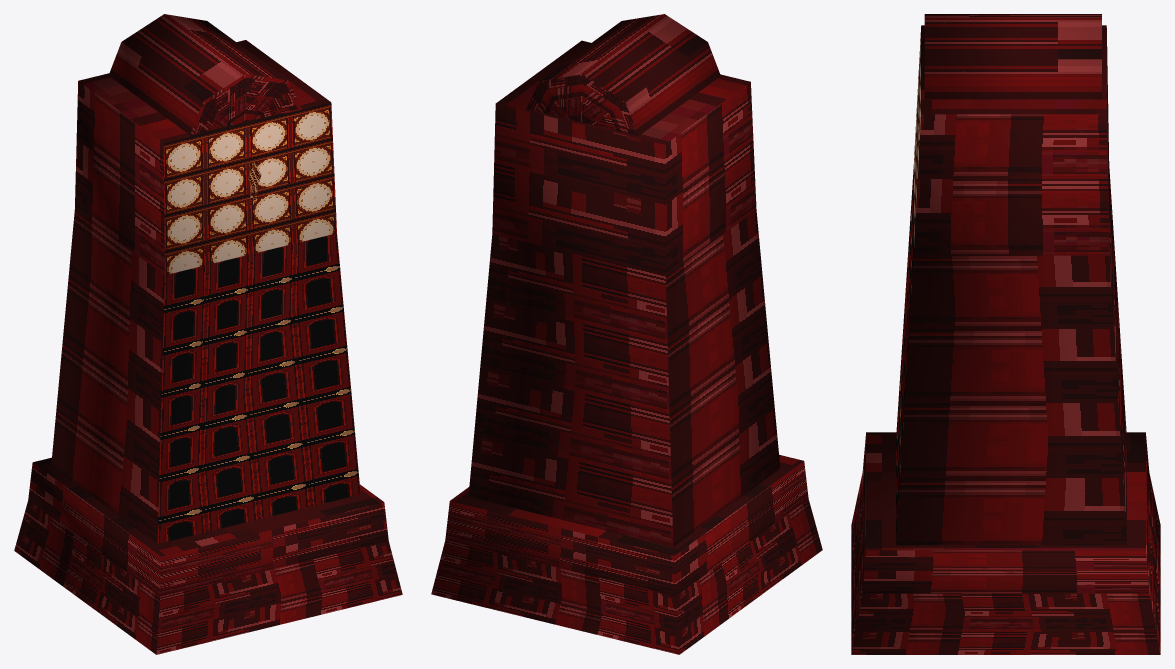
Rendered from 3047IMRL02_08.gltf.
The picture shows the model from 3 angles, left to right: view 1: azimuth 30°, elevation 25°; view 2: azimuth 150°, elevation 25°; view 3: azimuth 270°, elevation 25°; orthographic projection. The views are drawn at different scales.
Parts seen in each view (by area): view 1: 3047IMRL02_08; view 2: 3047IMRL02_08; view 3: 3047IMRL02_08.
Boxes of the visible parts, <box> form: 3047IMRL02_08: <box>14,14,402,654</box>; 3047IMRL02_08: <box>431,14,822,654</box>; 3047IMRL02_08: <box>851,14,1160,654</box>.
Size of the model in its own units: 0.9004 by 1.84 by 0.9004.
Materials: 3 (3 with a texture image).
